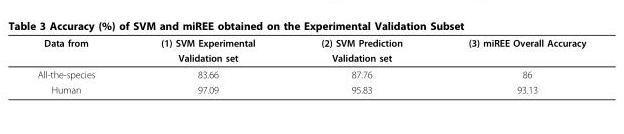table: (36, 36, 585, 94)
table column: (127, 36, 287, 94), (434, 36, 585, 94), (287, 36, 434, 94), (36, 36, 127, 94)
table column header: (36, 36, 585, 65)
table row: (36, 49, 585, 65), (36, 65, 585, 81), (36, 36, 585, 49), (36, 81, 585, 94)
table spanning cell: (127, 36, 287, 65), (434, 36, 585, 65), (287, 36, 434, 65), (36, 36, 127, 65)
